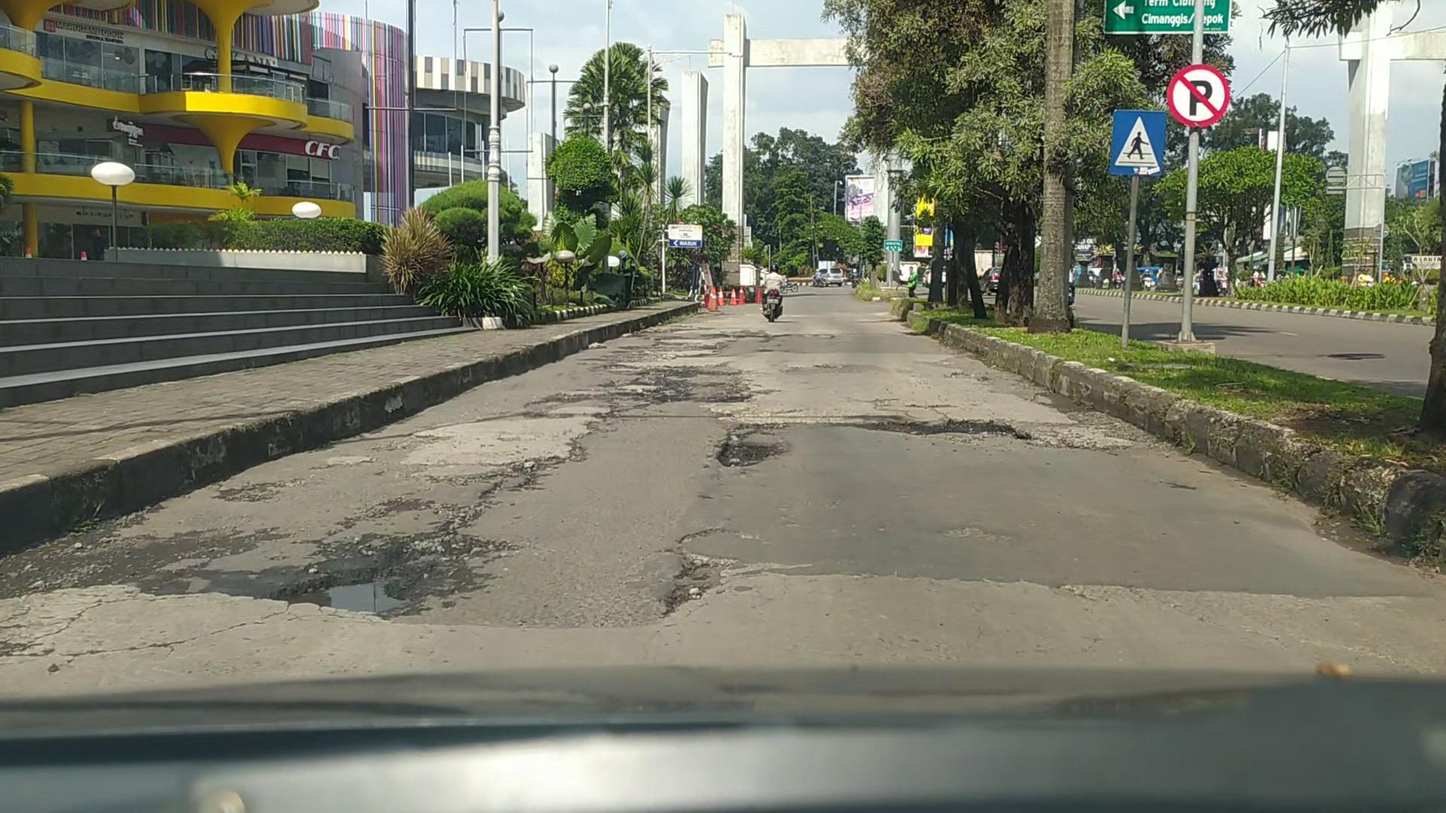pothole: (525, 367, 748, 429), (279, 568, 415, 614), (661, 528, 724, 614), (869, 422, 1035, 440), (718, 442, 781, 471)
